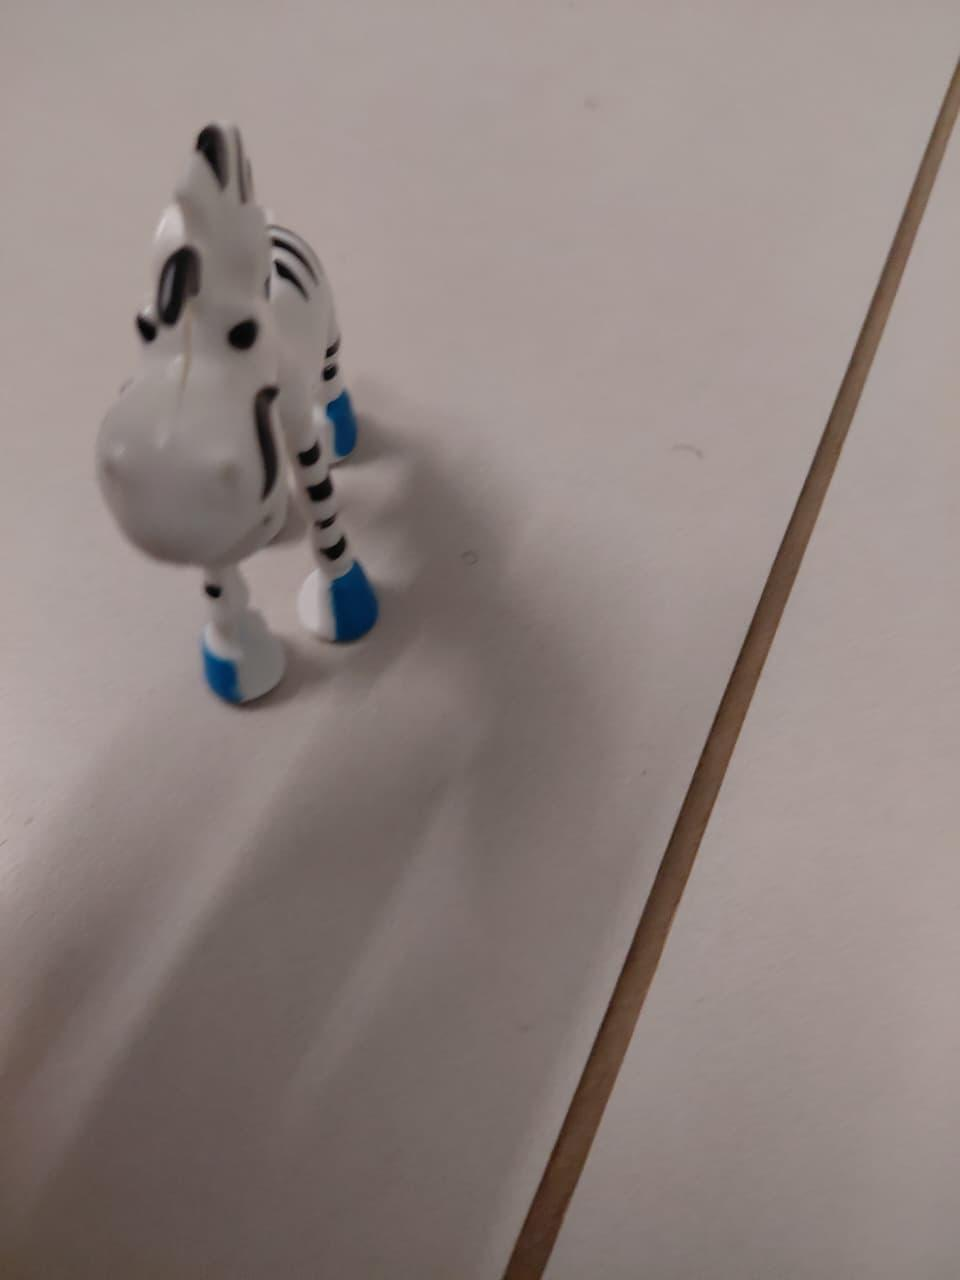zebra: (20, 68, 498, 805)
